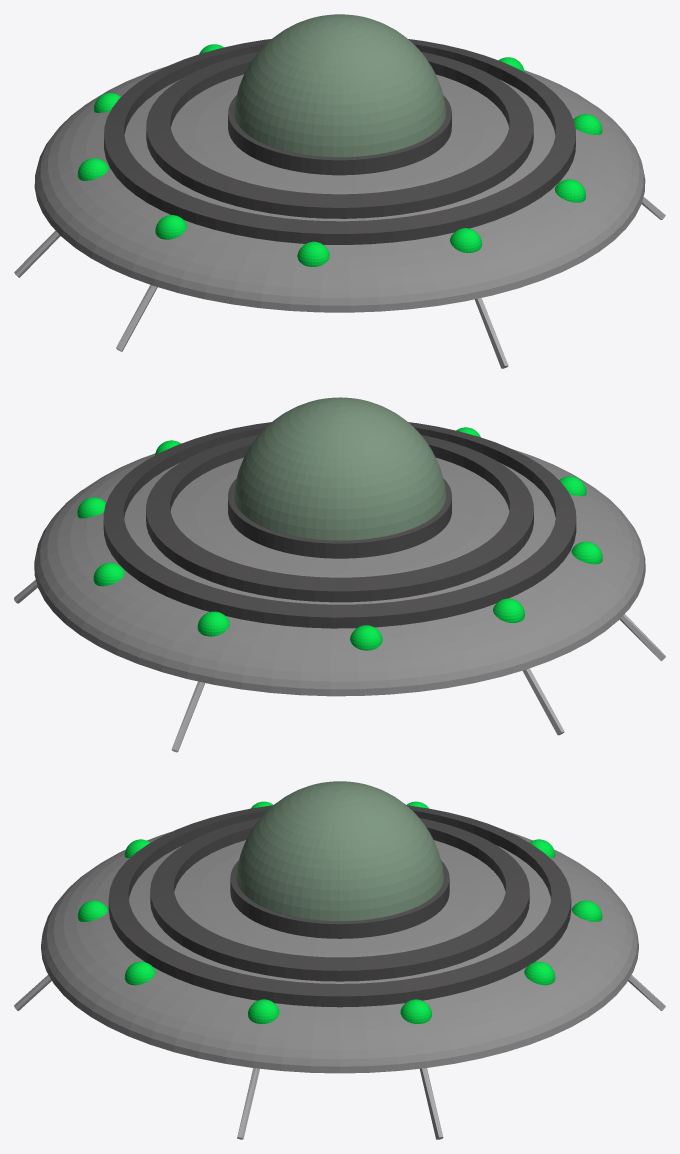
File: ovnicoisado.fbx
3 renders of one model, top to bottom at view 1: azimuth 30°, elevation 25°; view 2: azimuth 150°, elevation 25°; view 3: azimuth 270°, elevation 25°, orthographic. The views are drawn at different scales.
Parts seen in each view (by area): view 1: Sphere, Sphere.001, Sphere.012, Sphere.003, Sphere.011, Cylinder, Cylinder.008, Sphere.004, Sphere.010; view 2: Sphere, Sphere.001, Sphere.009, Sphere.008, Sphere.010, Cylinder.007, Cylinder.005, Sphere.007, Sphere.011; view 3: Sphere, Sphere.001, Sphere.005, Sphere.006, Cylinder.003, Sphere.004, Sphere.007, Cylinder.002.
Part boxes in pixels (bbox=[...]): Sphere: bbox=[34, 39, 645, 312]; Sphere.001: bbox=[234, 14, 445, 157]; Sphere.012: bbox=[297, 241, 329, 266]; Sphere.003: bbox=[450, 228, 482, 252]; Sphere.011: bbox=[155, 215, 187, 239]; Cylinder: bbox=[474, 298, 508, 368]; Cylinder.008: bbox=[116, 285, 157, 351]; Sphere.004: bbox=[555, 179, 585, 202]; Sphere.010: bbox=[77, 158, 108, 180]; Sphere: bbox=[34, 422, 645, 696]; Sphere.001: bbox=[233, 397, 446, 540]; Sphere.009: bbox=[350, 625, 382, 650]; Sphere.008: bbox=[197, 611, 229, 636]; Sphere.010: bbox=[493, 598, 524, 622]; Cylinder.007: bbox=[522, 668, 564, 735]; Cylinder.005: bbox=[171, 681, 204, 752]; Sphere.007: bbox=[93, 562, 124, 586]; Sphere.011: bbox=[571, 541, 602, 564]; Sphere: bbox=[41, 805, 638, 1073]; Sphere.001: bbox=[236, 781, 443, 921]; Sphere.005: bbox=[248, 999, 279, 1023]; Sphere.006: bbox=[400, 999, 431, 1023]; Cylinder.003: bbox=[420, 1068, 443, 1139]; Sphere.004: bbox=[124, 961, 155, 985]; Sphere.007: bbox=[524, 961, 555, 985]; Cylinder.002: bbox=[237, 1068, 259, 1139].
Size of the model in its own units: 587 by 230 by 616.
